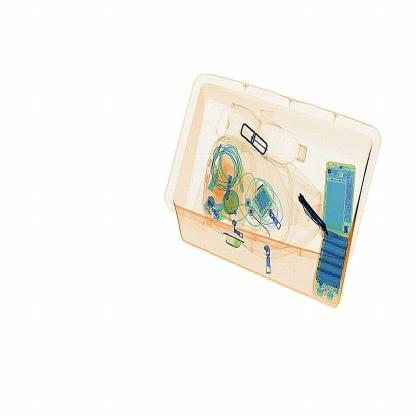knife: (298, 195, 328, 232)
